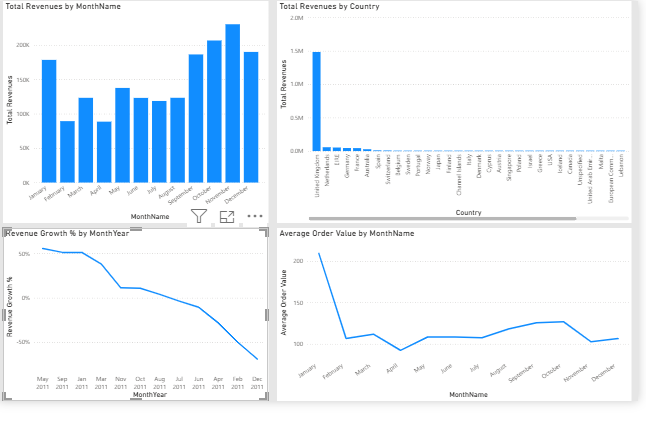

The dashboard page shown, as its layout file describes it:
{"tool":"powerbi","page":{"name":"pivot charts","canvas":[1280,800],"ordinal":2},"visuals":[{"type":"clusteredColumnChart","fields":{"Category":["Date.MonthName"],"Y":["data.Total Revenues"]},"box":[9.4,0,530.7,444.1],"z":0},{"type":"clusteredColumnChart","fields":{"Category":["data.Country"],"Y":["data.Total Revenues"]},"box":[557.5,0,708.7,444.1],"z":1000},{"type":"lineChart","fields":{"Category":["Date.MonthName"],"Y":["Customers.Average Order Value"]},"box":[557,454,709,346],"z":2000},{"type":"lineChart","fields":{"Category":["Date.MonthYear"],"Y":["Customers.Revenue Growth %"]},"box":[9,454,531,346],"z":3000}]}

Visuals, with their boxes on the page's 1280x800 design canvas (x1, y1, x2, y2). These are canvas units, not pixel positions in the 646x424 screenshot, which may show the page scaled, cropped or inside an application window:
clusteredColumnChart - Date.MonthName x data.Total Revenues: (9, 0, 540, 444)
clusteredColumnChart - data.Country x data.Total Revenues: (558, 0, 1266, 444)
lineChart - Date.MonthName x Customers.Average Order Value: (557, 454, 1266, 800)
lineChart - Date.MonthYear x Customers.Revenue Growth %: (9, 454, 540, 800)
